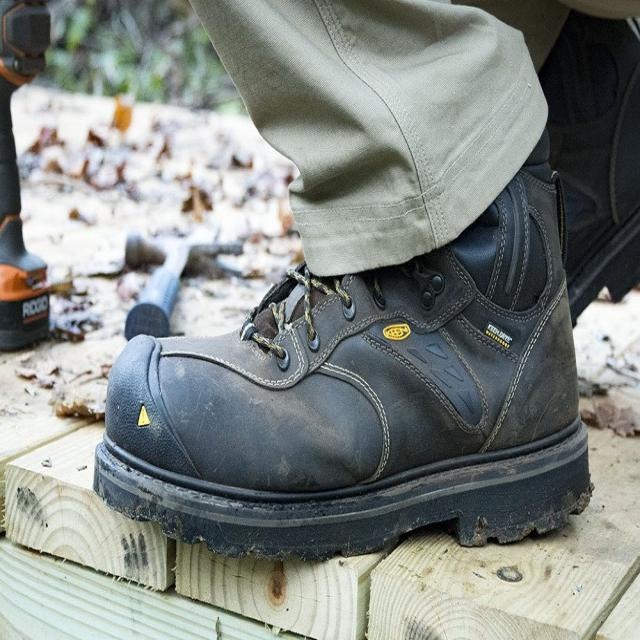boot: (70, 166, 601, 560)
